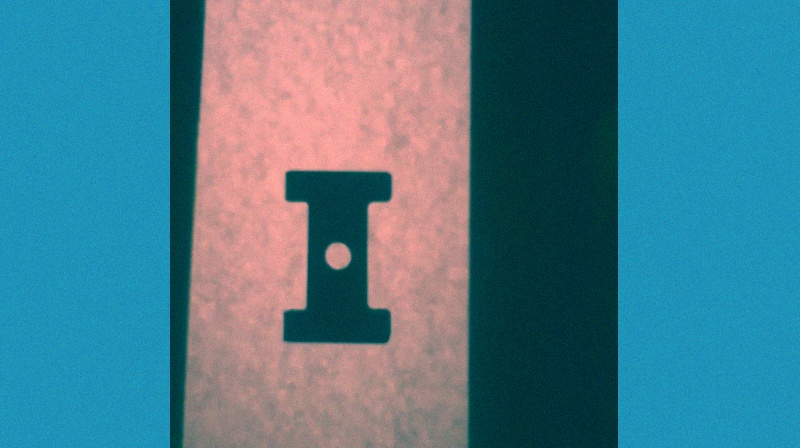O002: (283, 164, 395, 346)
